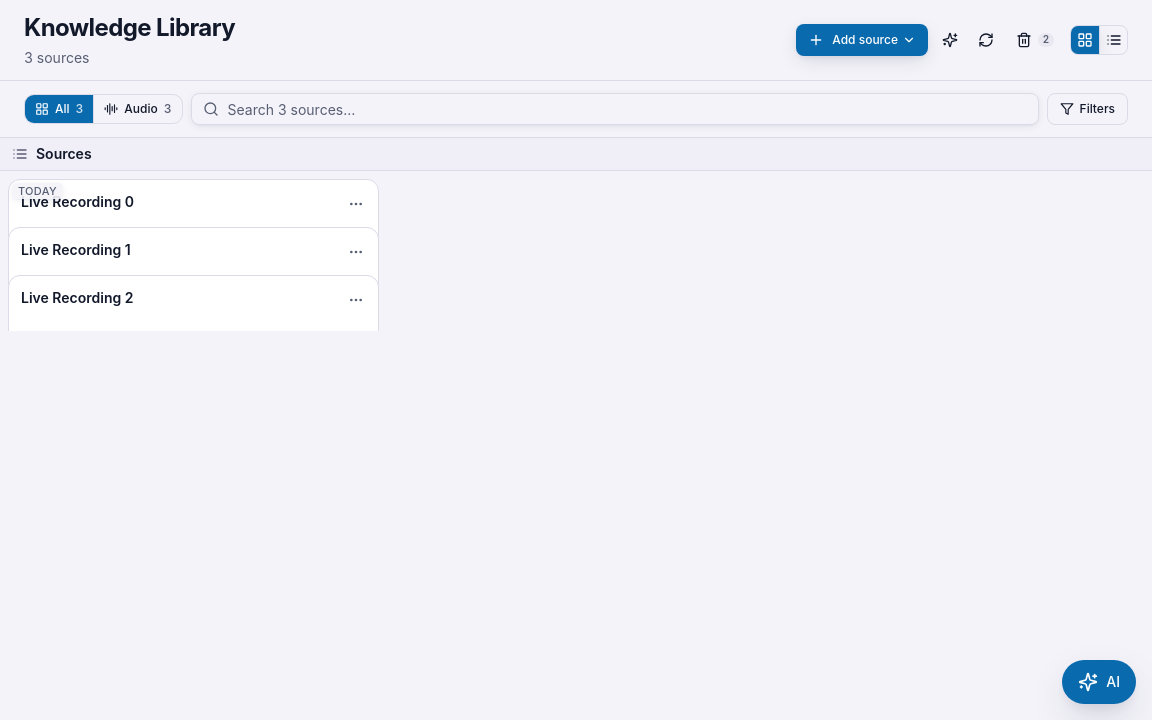
Test: Trash mode swaps the displayed list (AC#3, AC#10) › toggling back out restores the live list
Click the button "2" at coordinates (1035, 40), box [1008,24,1062,56]
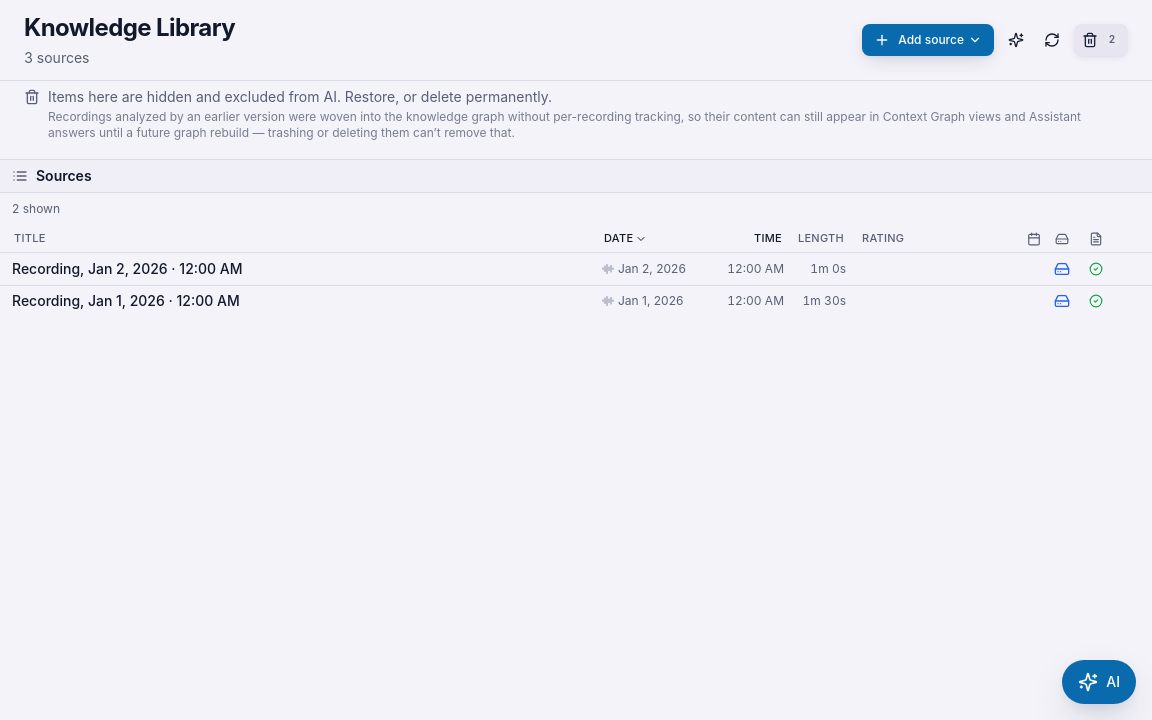
Check: the option with test id "source-row-trash-1" is shown, box [12,260,1103,277]
Click the button "2" at coordinates (1101, 40), box [1074,24,1128,56]
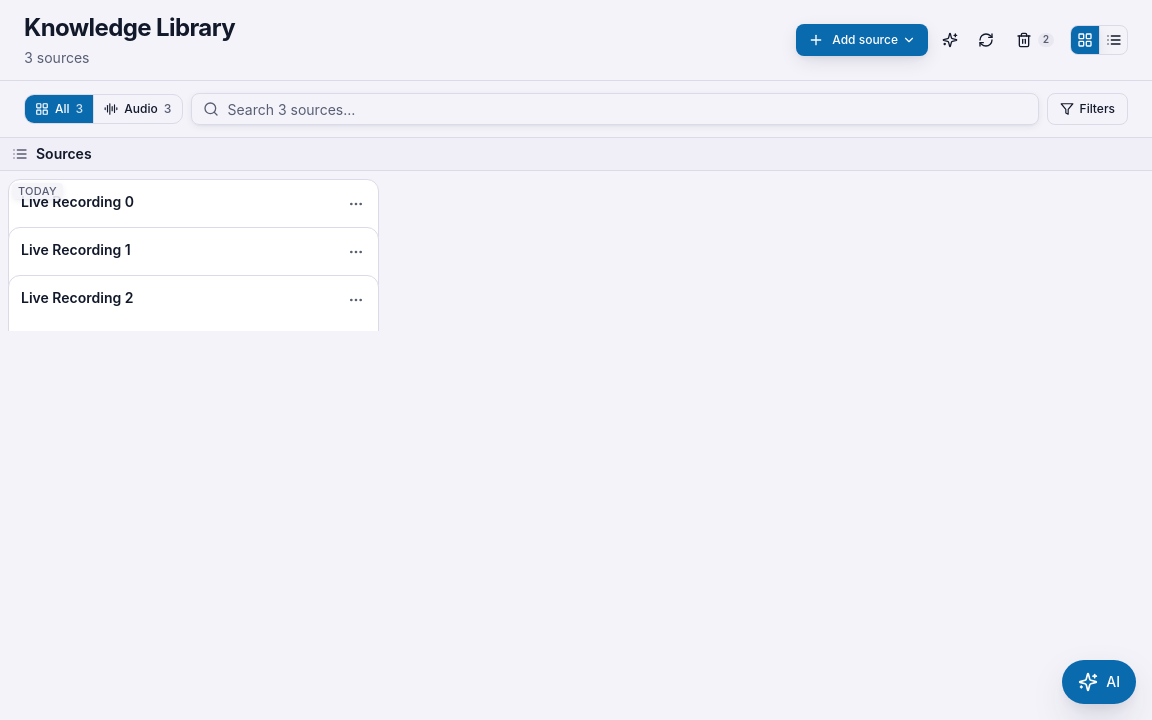
Check: the heading "Live Recording 0" is shown, box [21,193,134,210]
Check: the option with test id "source-row-trash-1" is gone
